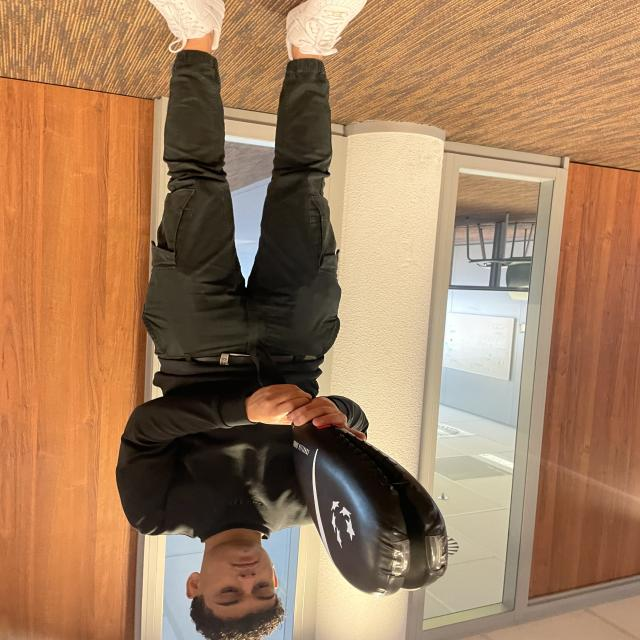paddle: (298, 427, 451, 594)
